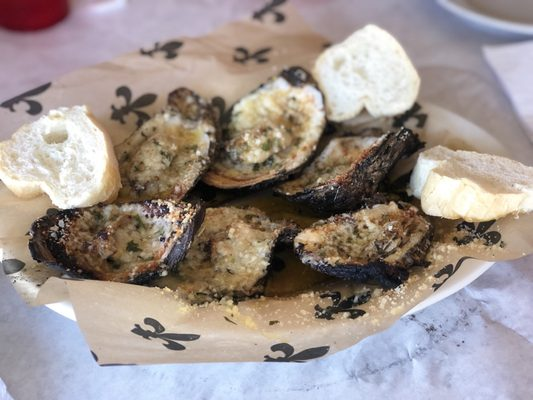sushi: (431, 0, 533, 42)
